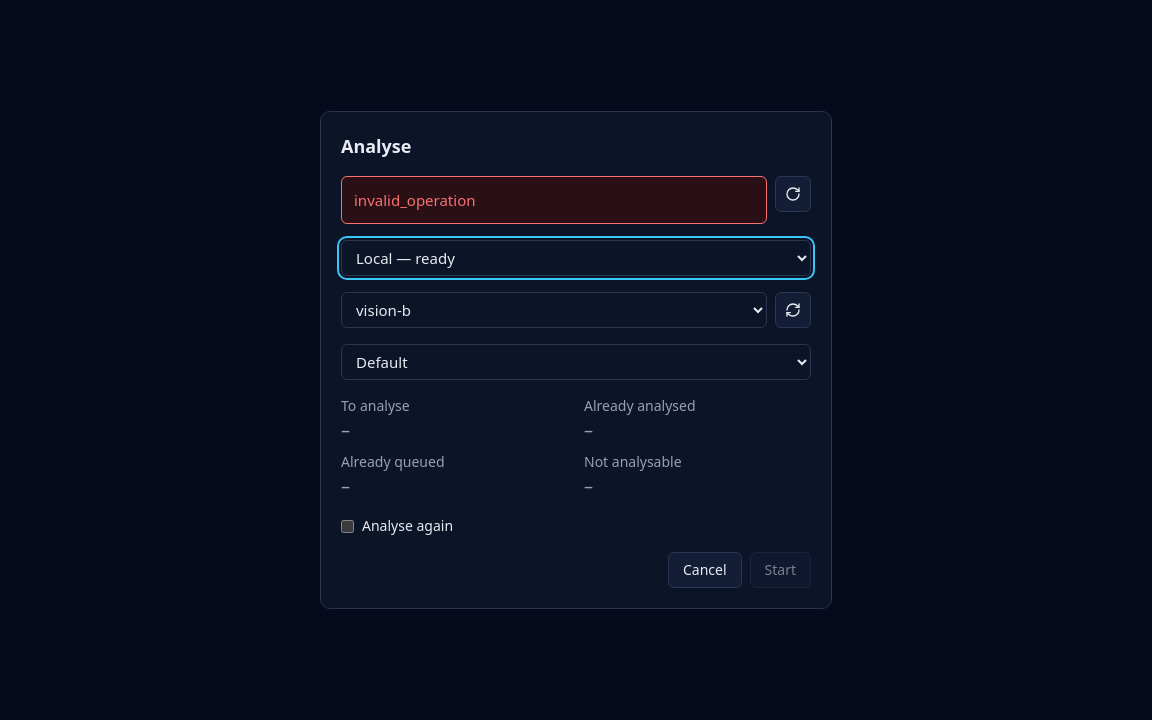
Test case: a rejected preview shows the message, blocks Start with its own reason and can be retried
Expected: the message reads "invalid_operation", [354,190,476,210]
Expected: the button "Start" is disabled, [750,552,811,588]
Step 1. Click the button named "Count again" → (793, 194), box [775,176,811,212]
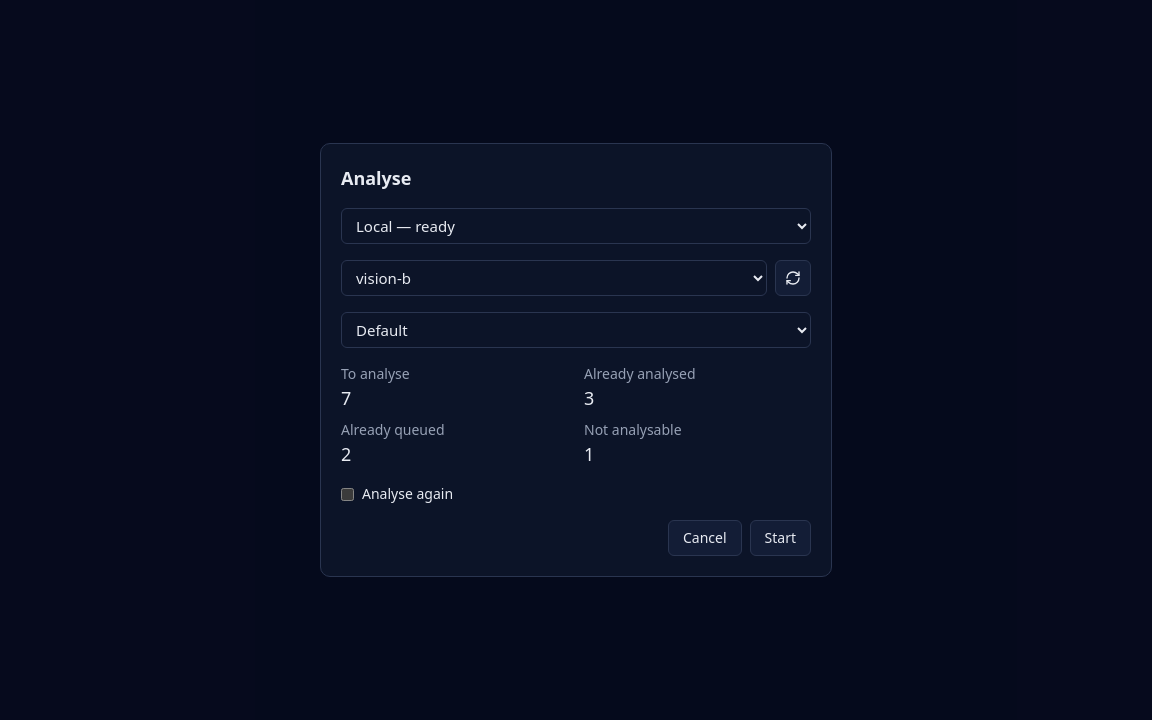
Expected: the message "invalid_operation" is gone
Expected: the button "Start" is enabled, [750,520,811,556]
